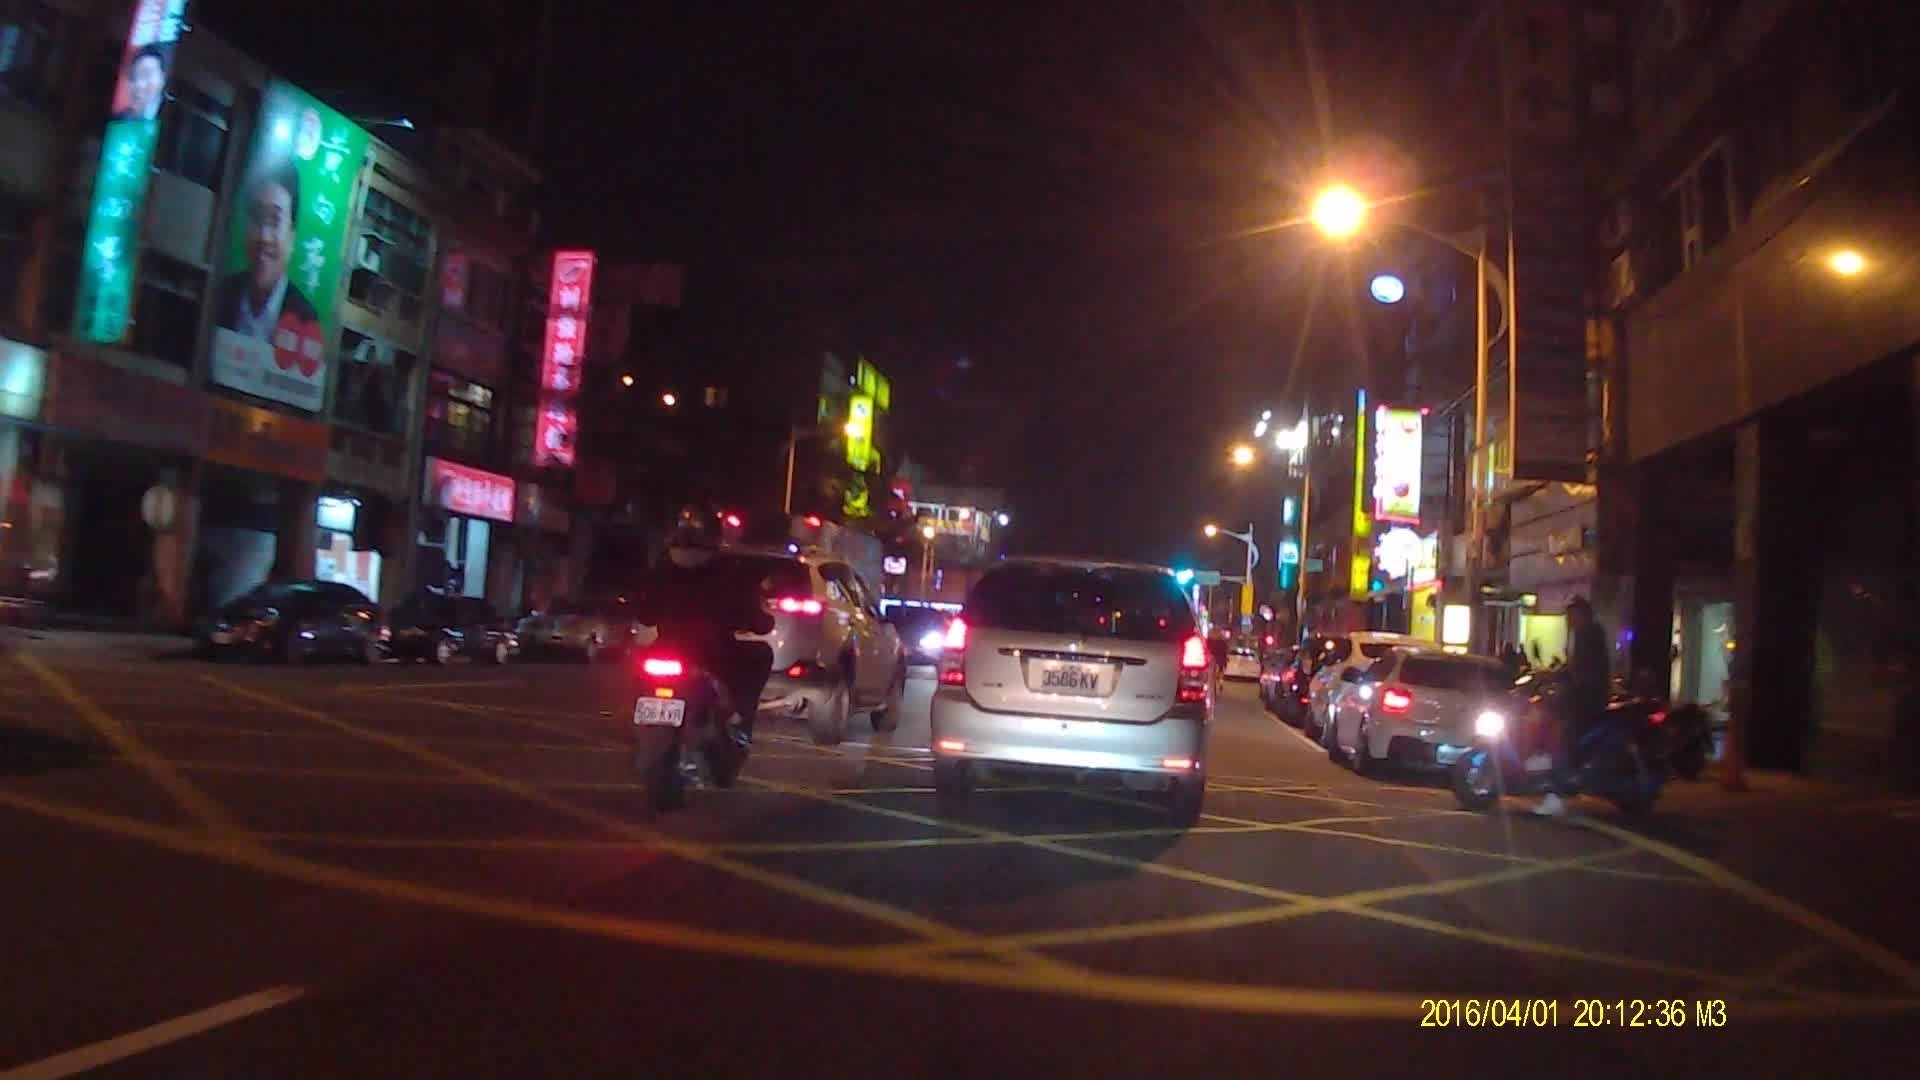License_plate: (1039, 660, 1102, 694), (633, 695, 685, 724)
